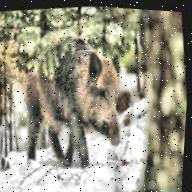boar: (11, 15, 138, 188)
